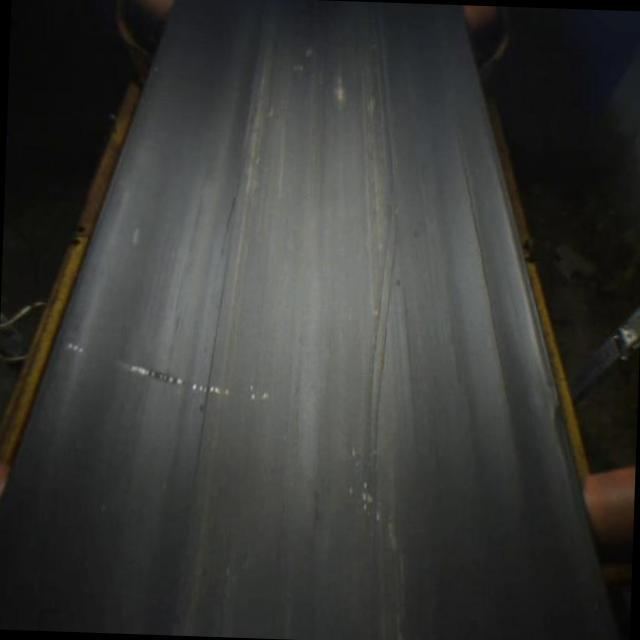Tear: (356, 41, 412, 510), (188, 242, 242, 474), (216, 171, 256, 266)
